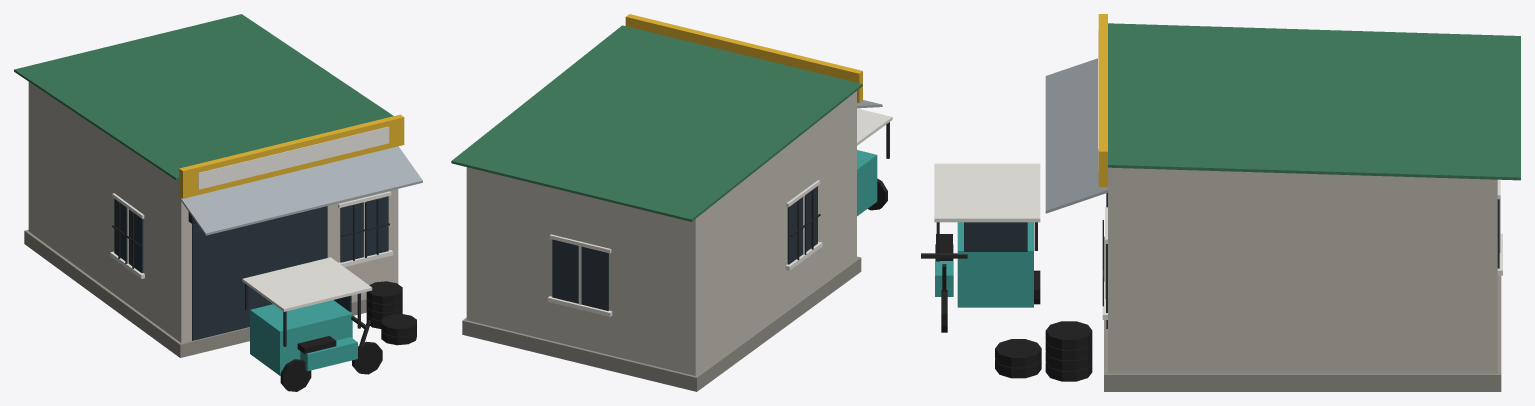
File: BAY_F_Shop_F.glb
3 views of the same model, side by side, from view 1: azimuth 30°, elevation 25°; view 2: azimuth 150°, elevation 25°; view 3: azimuth 270°, elevation 25° (orthographic). The views are drawn at different scales.
Visible parts, largest first — view 1: BAY_F_Shop_F; view 2: BAY_F_Shop_F; view 3: BAY_F_Shop_F.
Boxes of the visible parts, box(x1,y1,x2,y2) form: BAY_F_Shop_F: box(14, 14, 422, 391); BAY_F_Shop_F: box(451, 14, 892, 391); BAY_F_Shop_F: box(921, 14, 1520, 391).
Bounding box in the file's own units: 4.3 × 3.4 × 7.7.
Materials: 1 (1 with a texture image).
